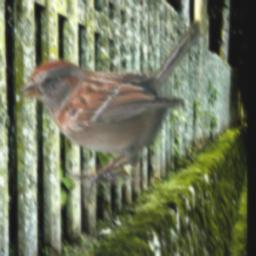Sparrow: (20, 20, 202, 209)
